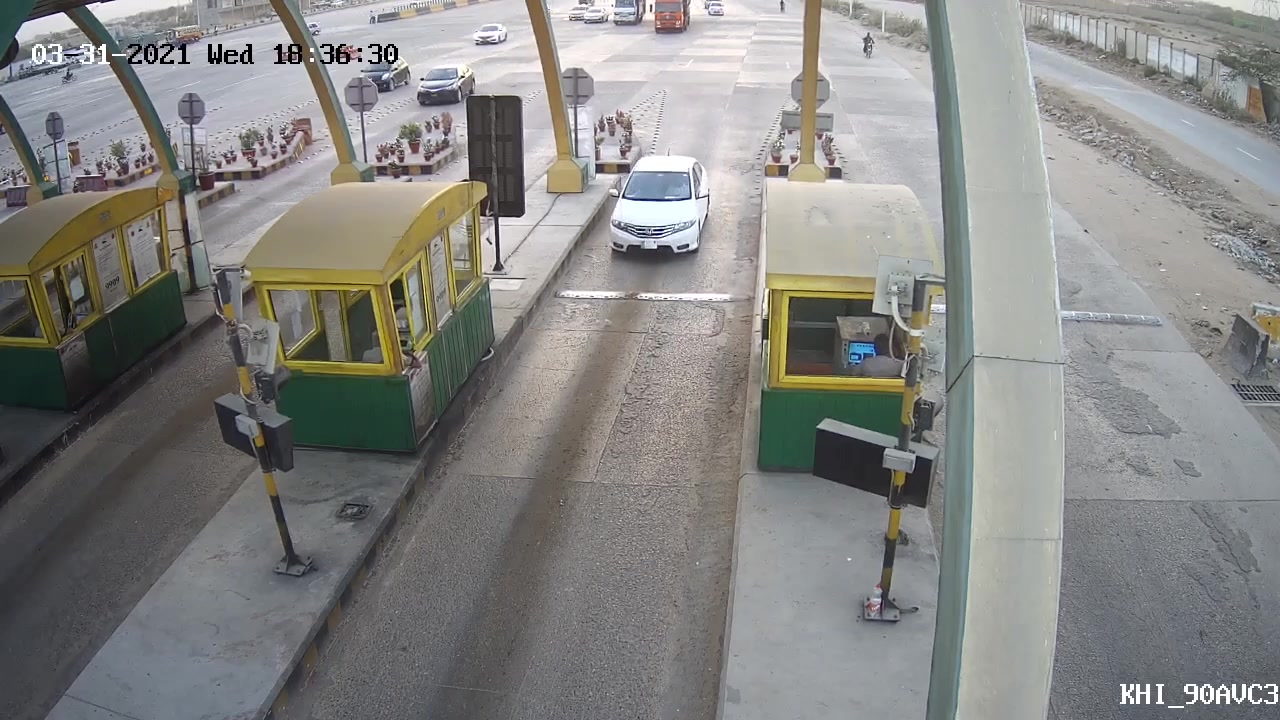F1: (600, 145, 718, 266)
